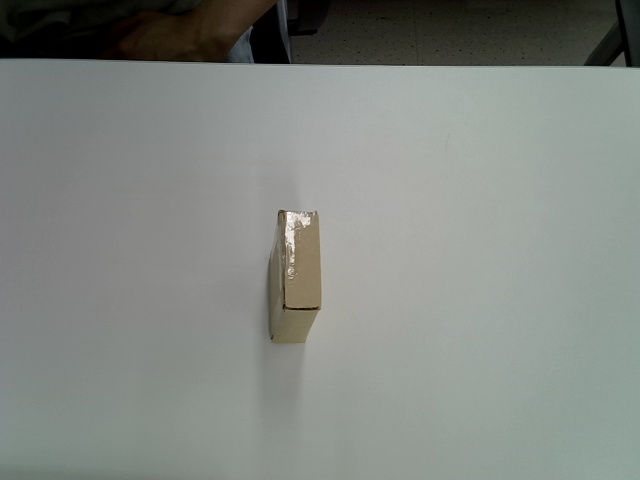normal: (268, 209, 322, 343)
